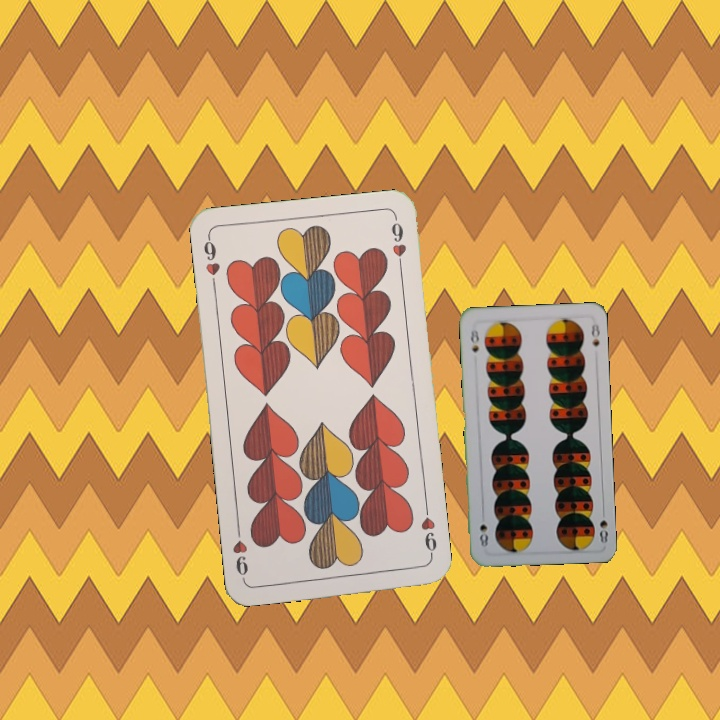H9: (417, 502, 440, 562), (199, 233, 222, 292)
S8: (596, 505, 610, 545), (466, 326, 482, 355)
